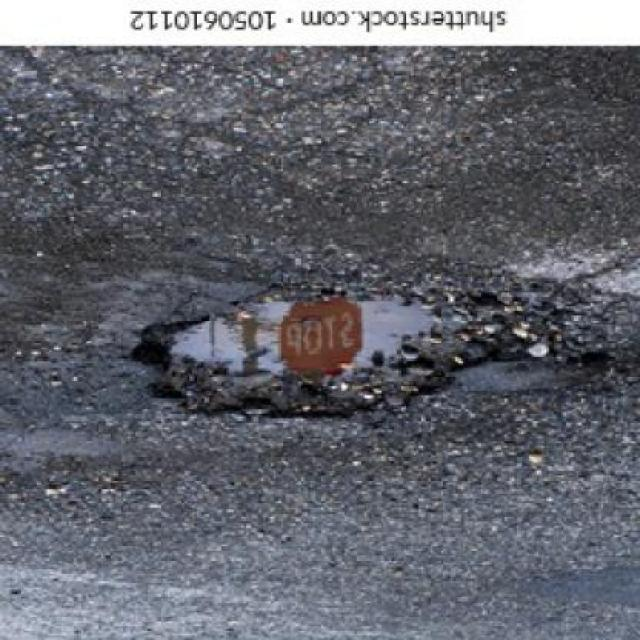Pothole: (125, 274, 613, 432)
